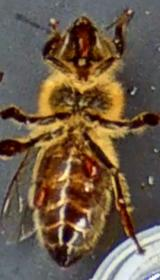varroa_mite: (28, 186, 56, 218), (76, 154, 102, 176)
